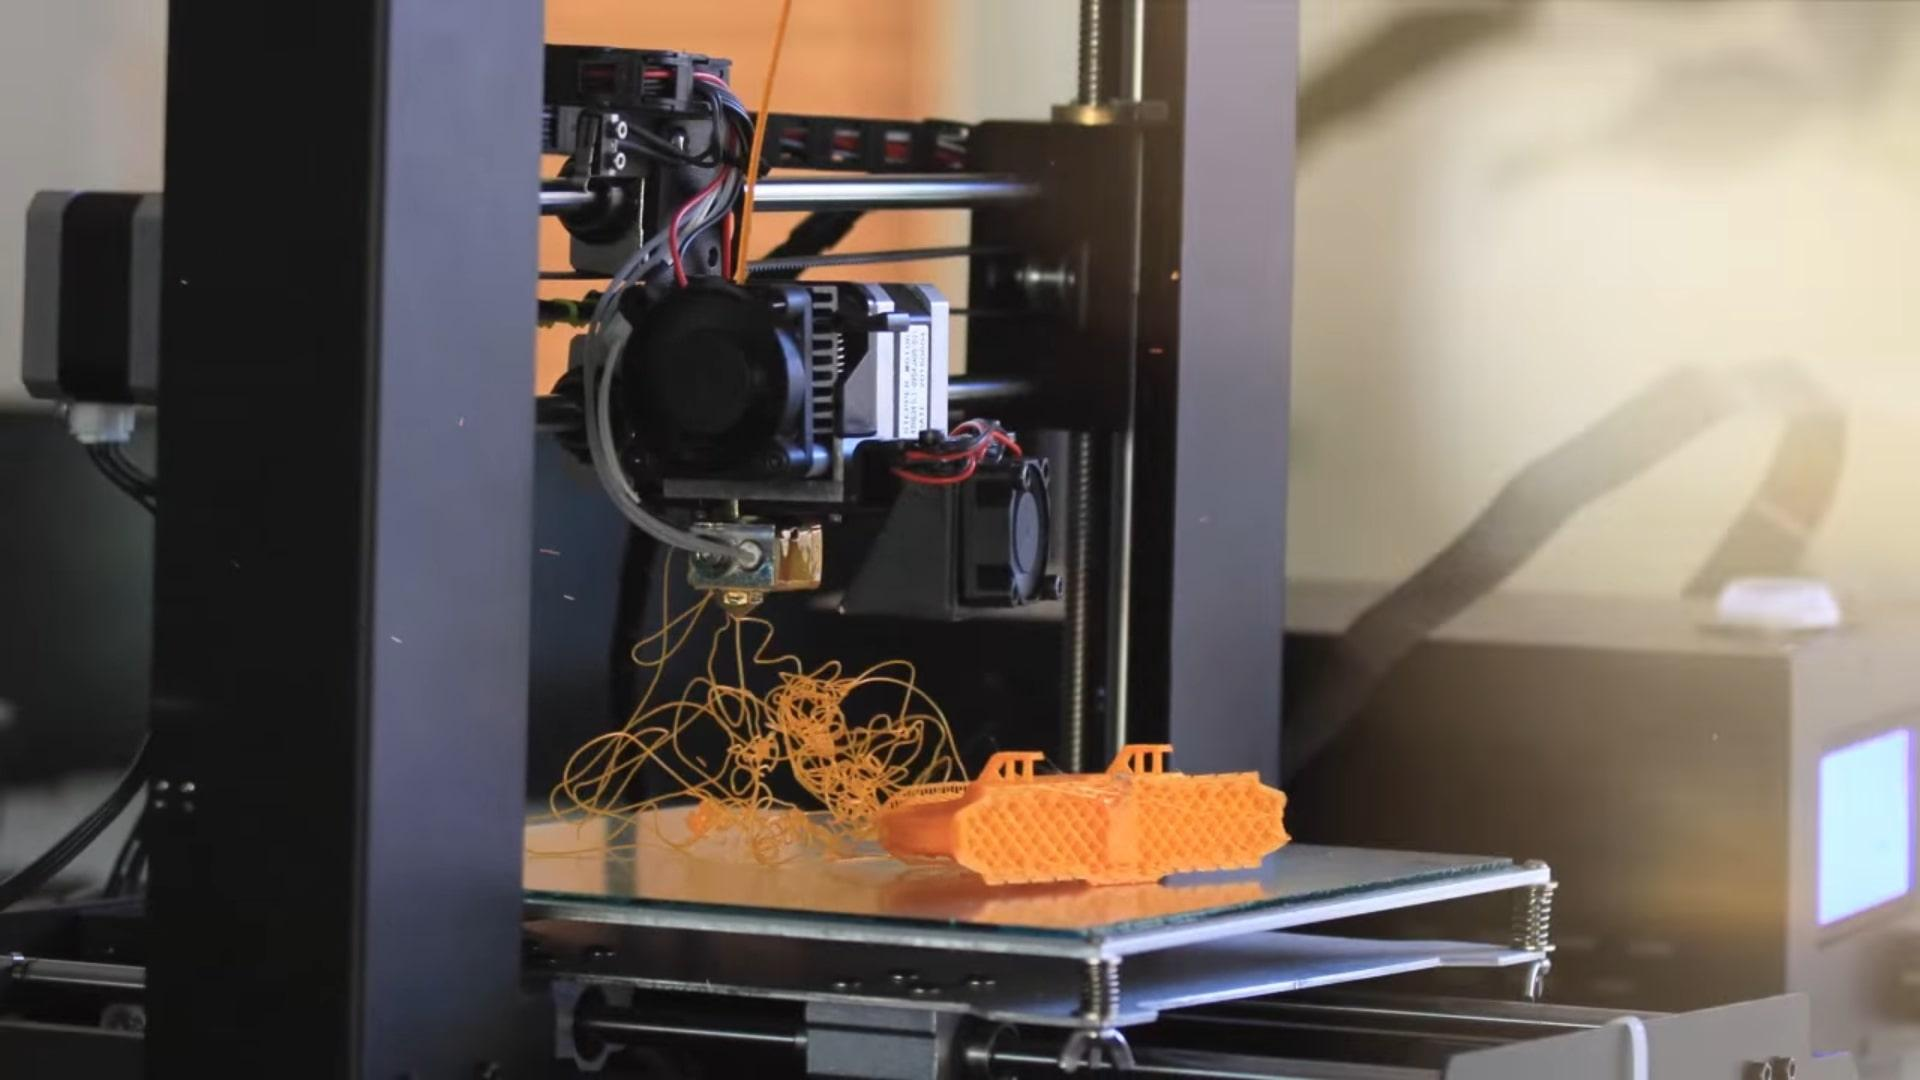Printing-Artifact: (673, 661, 936, 876)
